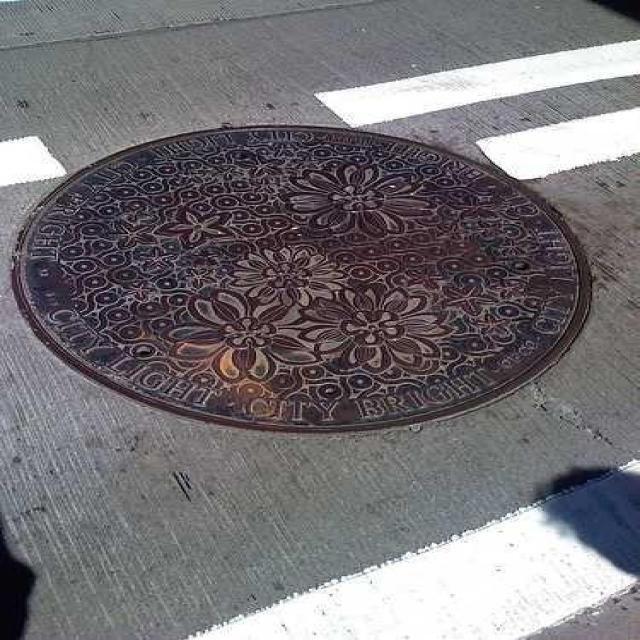manhole: (15, 127, 590, 431)
